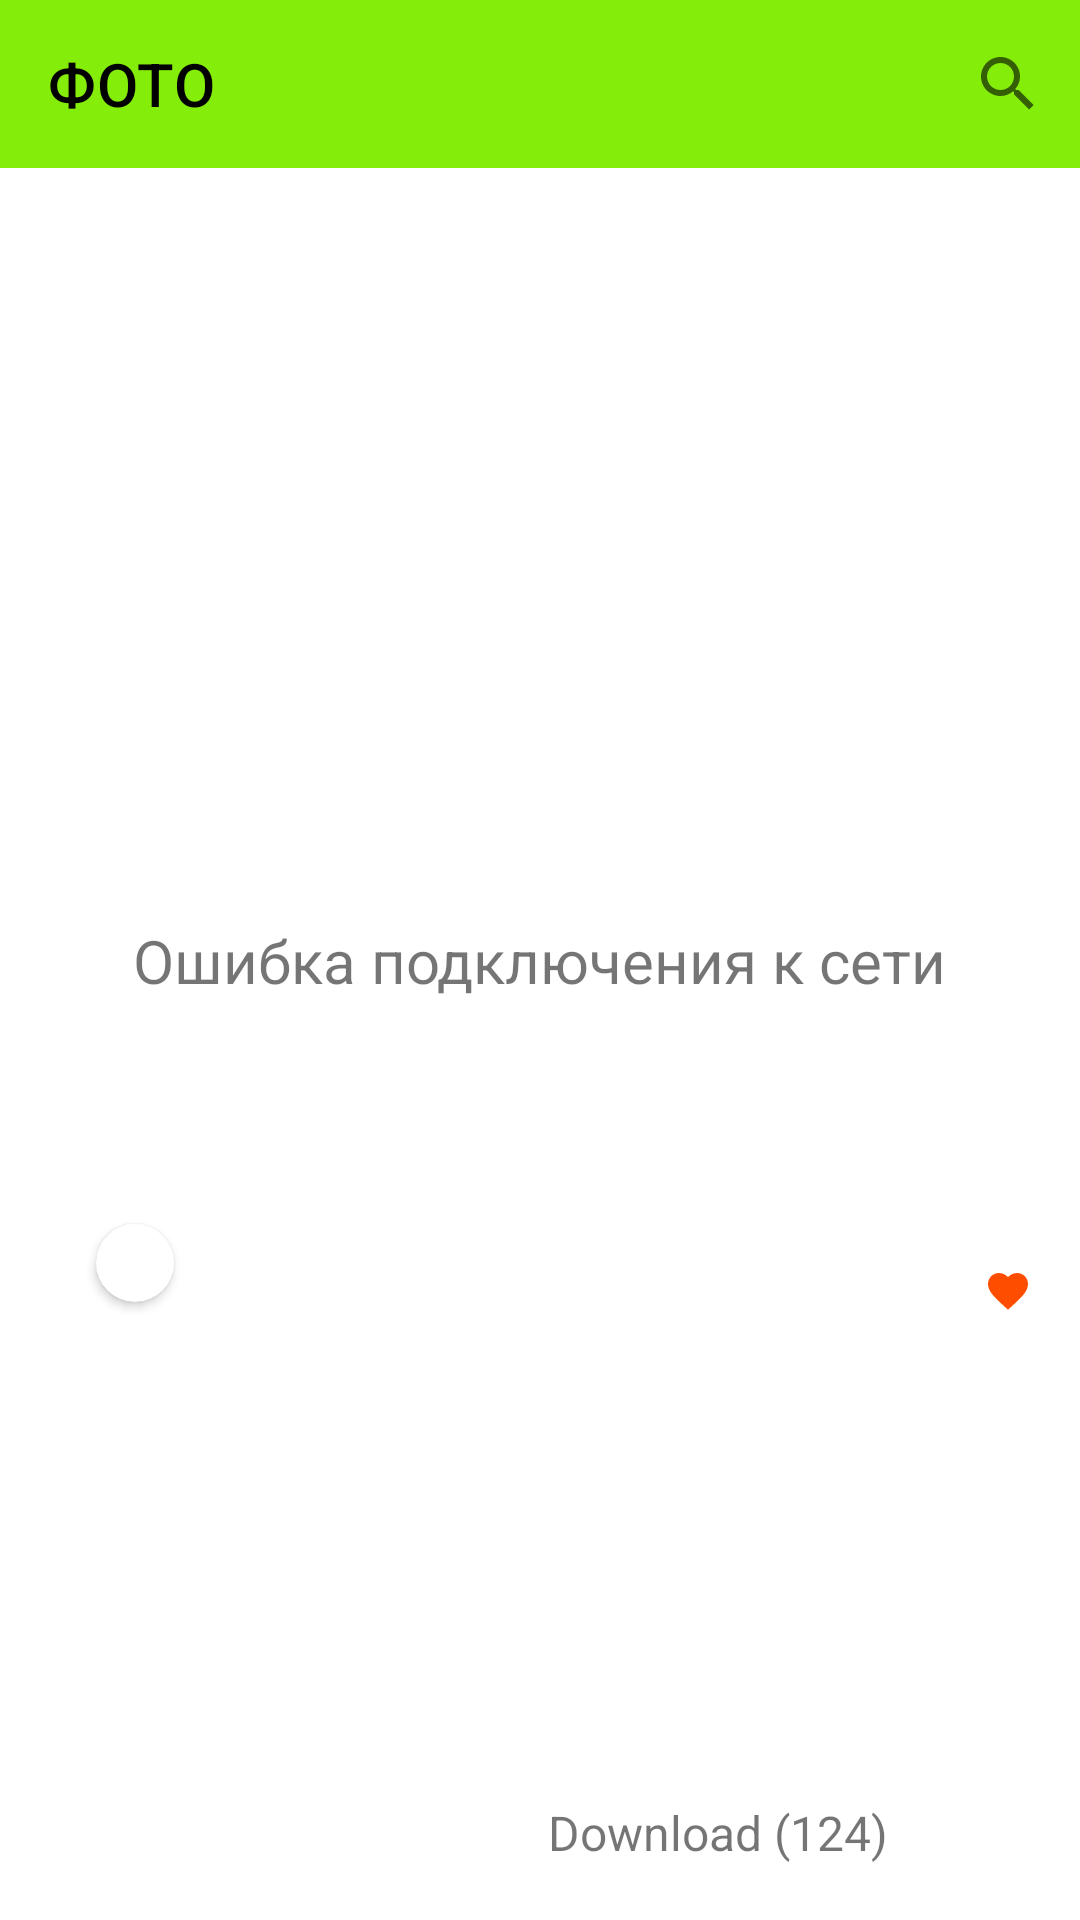

Named icons in this screenshot (1080 x 1920) and their centers, (x,y):
favorite: (1008,1291)
